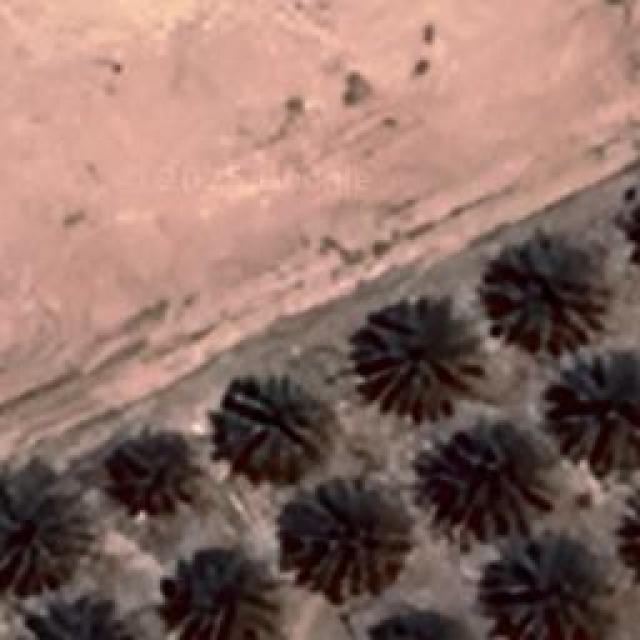PalmTree: (350, 300, 488, 420), (424, 418, 558, 540), (280, 475, 405, 595), (475, 242, 603, 348), (485, 542, 610, 638), (218, 374, 322, 478), (547, 350, 635, 472), (170, 540, 282, 635), (0, 488, 88, 590), (100, 432, 202, 518), (15, 590, 146, 640), (360, 608, 478, 640), (609, 488, 640, 590)
